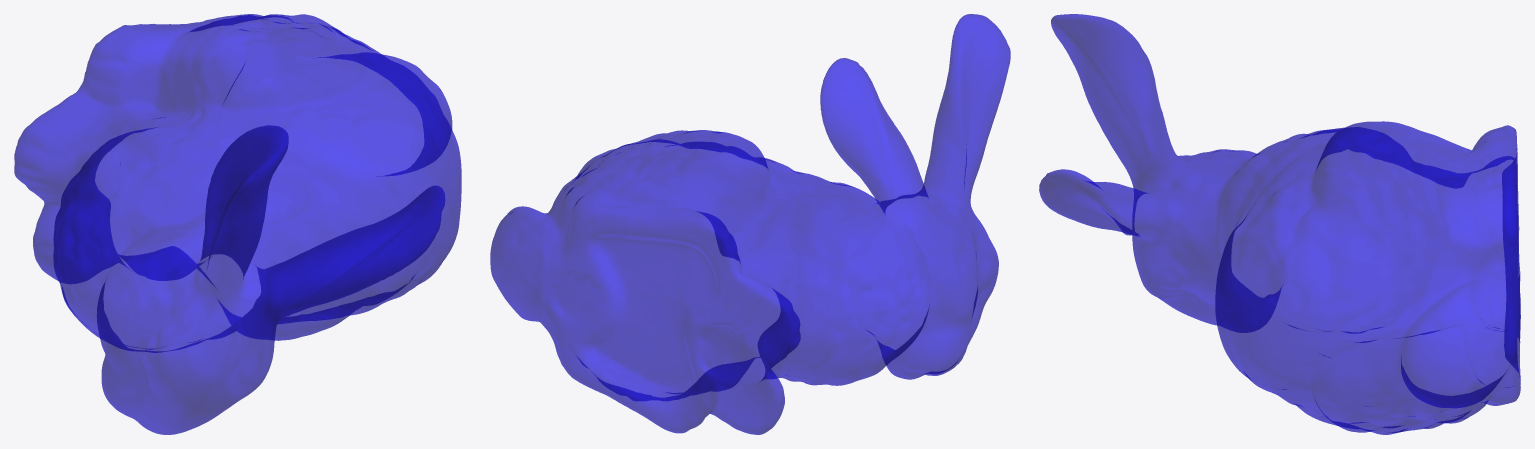
Rendered from bunny_test3.glb.
The picture shows the model from 3 angles, left to right: view 1: azimuth 30°, elevation 25°; view 2: azimuth 150°, elevation 25°; view 3: azimuth 270°, elevation 25°; orthographic projection. The views are drawn at different scales.
Visible parts, largest first — view 1: bunny; view 2: bunny; view 3: bunny.
Part boxes in pixels (left/top/right/bottom): bunny: left=14, top=14, right=461, bottom=434; bunny: left=490, top=14, right=1010, bottom=434; bunny: left=1039, top=14, right=1520, bottom=434.
Bounding box in the file's own units: 1.61 × 1.23 × 1.62.
